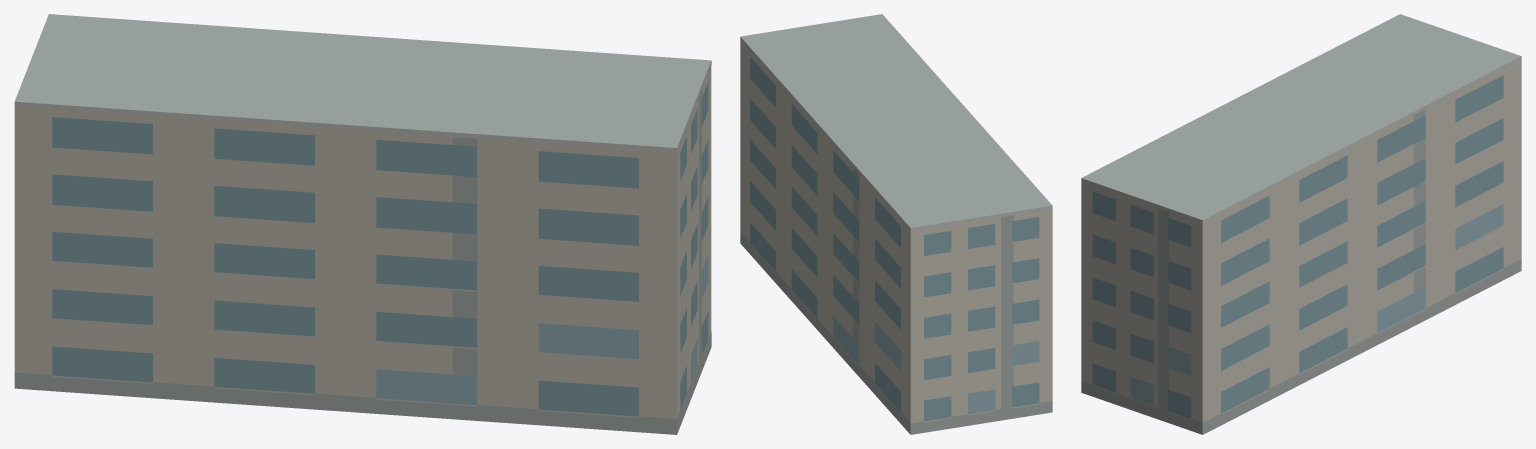
The model's file is residential-5bb8c6bc-b582-439e-adbc-3a951b7fc10c.glb.
The picture shows the model from 3 angles, left to right: view 1: azimuth 30°, elevation 25°; view 2: azimuth 150°, elevation 25°; view 3: azimuth 270°, elevation 25°; orthographic projection. The views are drawn at different scales.
Parts seen in each view (by area): view 1: residential-5bb8c6bc-b582-439e-adbc-3a951b7fc10c.tmp; view 2: residential-5bb8c6bc-b582-439e-adbc-3a951b7fc10c.tmp; view 3: residential-5bb8c6bc-b582-439e-adbc-3a951b7fc10c.tmp.
Boxes of the visible parts, <box> form: residential-5bb8c6bc-b582-439e-adbc-3a951b7fc10c.tmp: <box>14,14,711,434</box>; residential-5bb8c6bc-b582-439e-adbc-3a951b7fc10c.tmp: <box>740,14,1052,434</box>; residential-5bb8c6bc-b582-439e-adbc-3a951b7fc10c.tmp: <box>1081,14,1521,434</box>.
Bounding box in the file's own units: 31.44 × 15.25 × 28.37.
